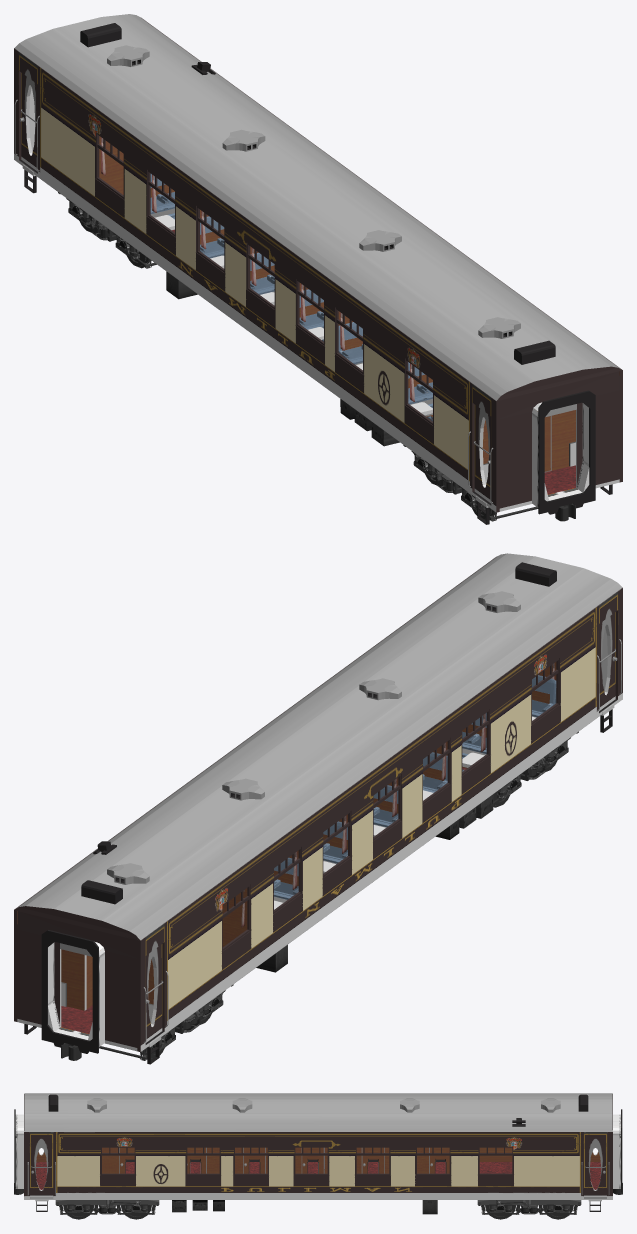
File: brpullman_room.obj
The picture shows the model from 3 angles, top to bottom: view 1: azimuth 30°, elevation 25°; view 2: azimuth 150°, elevation 25°; view 3: azimuth 270°, elevation 25°; orthographic projection. The views are drawn at different scales.
Visible parts, largest first — view 1: pull_jibung, pull_side, pull_back, pull_wall, pull_sofa, pull_hwanpung, pull_KVZ-TSNII, pull_makoutside, pull_changteulbase, pull_mak, pull_roofitems, pull_changteul (+6 smaller); view 2: pull_jibung, pull_side, pull_back, pull_wall, pull_sofa, pull_hwanpung, pull_KVZ-TSNII, pull_makoutside, pull_changteulbase, pull_roofitems, pull_mak, pull_changteul (+5 smaller); view 3: pull_side, pull_jibung, pull_wall, pull_KVZ-TSNII, pull_changteulbase, pull_badakwood, pull_mak, pull_inside, pull_door_LF, pull_hwanpung, pull_door_LB, pull_changteul (+5 smaller).
Part boxes in pixels (<box>): pull_jibung: <box>14,14,620,400</box>; pull_side: <box>14,17,622,512</box>; pull_back: <box>497,366,621,511</box>; pull_wall: <box>29,88,576,487</box>; pull_sofa: <box>150,174,432,421</box>; pull_hwanpung: <box>107,45,520,338</box>; pull_KVZ-TSNII: <box>58,192,575,521</box>; pull_makoutside: <box>538,390,595,514</box>; pull_changteulbase: <box>96,132,432,424</box>; pull_mak: <box>532,402,589,507</box>; pull_roofitems: <box>80,23,555,364</box>; pull_changteul: <box>97,139,432,392</box>; pull_jibung: <box>16,553,622,940</box>; pull_side: <box>14,556,622,1051</box>; pull_back: <box>15,906,139,1050</box>; pull_wall: <box>60,627,607,1026</box>; pull_sofa: <box>274,675,556,902</box>; pull_hwanpung: <box>107,591,520,884</box>; pull_KVZ-TSNII: <box>61,731,578,1060</box>; pull_makoutside: <box>41,930,98,1053</box>; pull_changteulbase: <box>222,658,559,950</box>; pull_roofitems: <box>81,562,556,904</box>; pull_mak: <box>48,942,104,1046</box>; pull_changteul: <box>222,665,558,918</box>; pull_side: <box>24,1132,612,1199</box>; pull_jibung: <box>24,1093,612,1131</box>; pull_wall: <box>102,1147,449,1173</box>; pull_KVZ-TSNII: <box>14,1183,622,1219</box>; pull_changteulbase: <box>101,1146,512,1175</box>; pull_badakwood: <box>35,1162,601,1189</box>; pull_mak: <box>15,1114,620,1188</box>; pull_inside: <box>125,1147,512,1161</box>; pull_door_LF: <box>30,1143,53,1197</box>; pull_hwanpung: <box>87,1098,560,1112</box>; pull_door_LB: <box>584,1143,606,1197</box>; pull_changteul: <box>102,1147,512,1155</box>.
Size of the model in its own units: 3.06 by 4 by 20.08.
19 materials, 19 textured.
